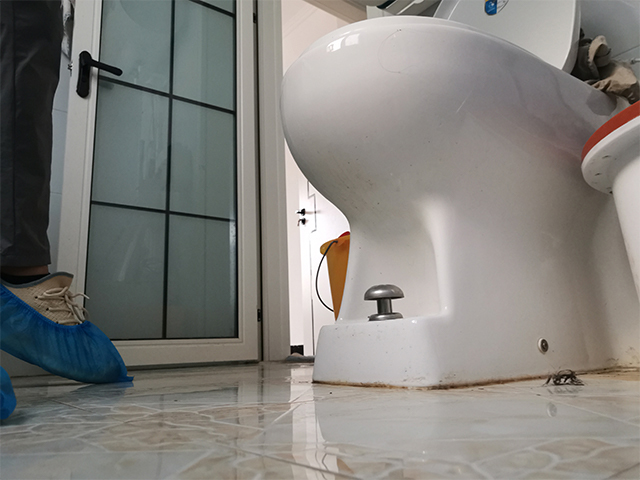closestool: (276, 1, 638, 394)
